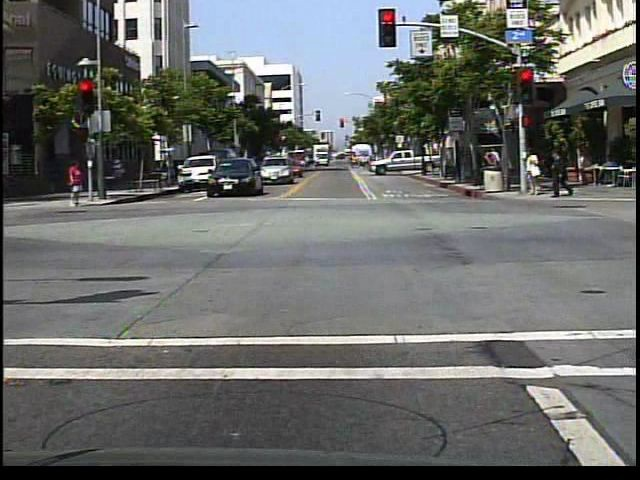person: (547, 147, 574, 201), (523, 144, 544, 198), (67, 159, 87, 211)
